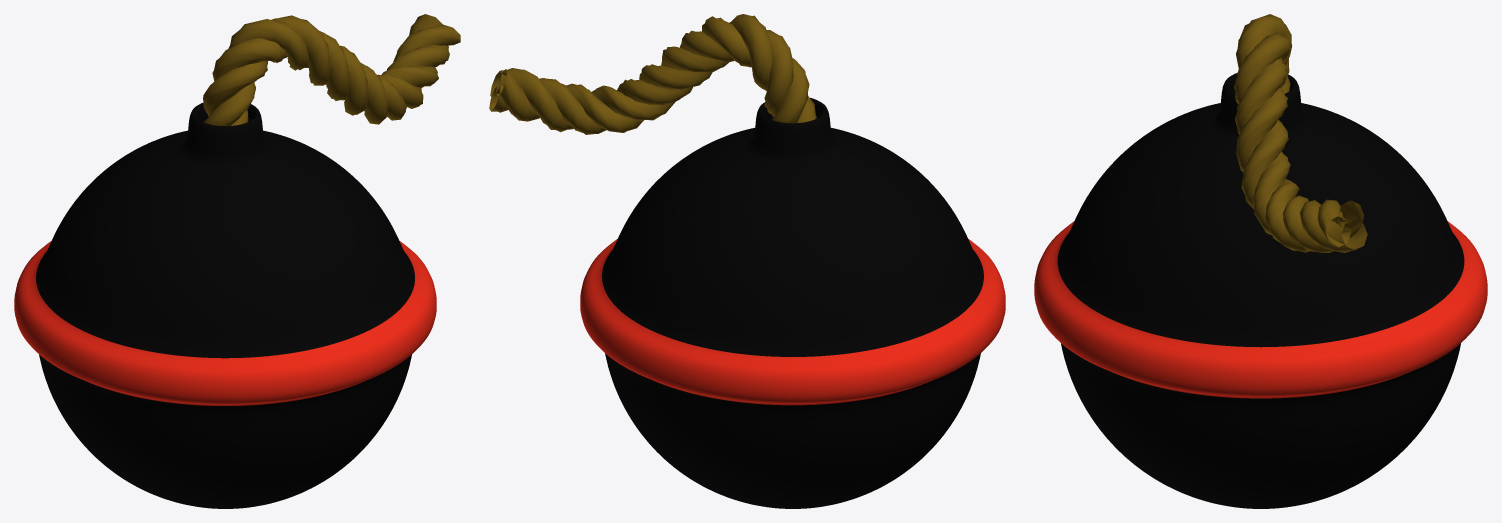
File: Bomb1.fbx
3 views of the same model, side by side, from view 1: azimuth 30°, elevation 25°; view 2: azimuth 150°, elevation 25°; view 3: azimuth 270°, elevation 25° (orthographic). The views are drawn at different scales.
Visible parts, largest first — view 1: Сфера, Окружность.001; view 2: Сфера, Окружность.001; view 3: Сфера, Окружность.001.
Part boxes in pixels (x1,y1,x2,y2): Сфера: [14, 103, 436, 508]; Окружность.001: [203, 14, 460, 126]; Сфера: [580, 97, 1005, 508]; Окружность.001: [489, 14, 816, 134]; Сфера: [1034, 72, 1487, 508]; Окружность.001: [1234, 14, 1367, 252].
Bounding box in the file's own units: 270 × 265 × 219.
